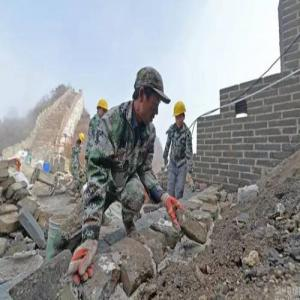none: (134, 69, 166, 124), (76, 140, 83, 151)
yellow: (173, 101, 187, 125), (96, 99, 110, 117)
